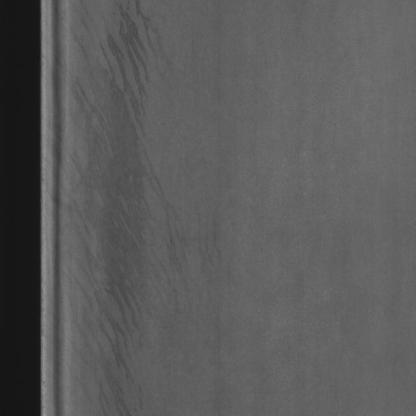water_spot: (67, 8, 179, 416)
